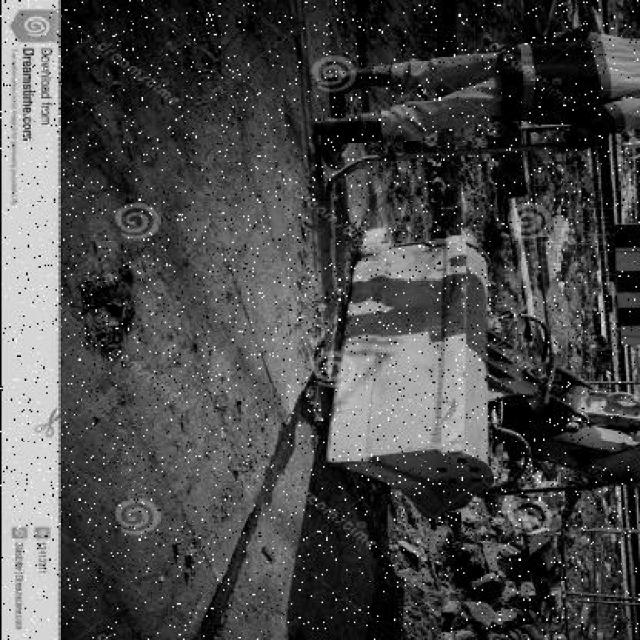shoes: (310, 115, 372, 163), (325, 60, 390, 94)
